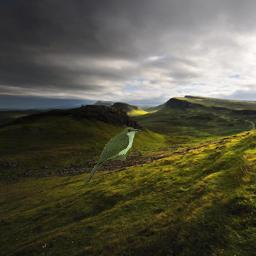Cuckoo: (83, 127, 140, 186)
